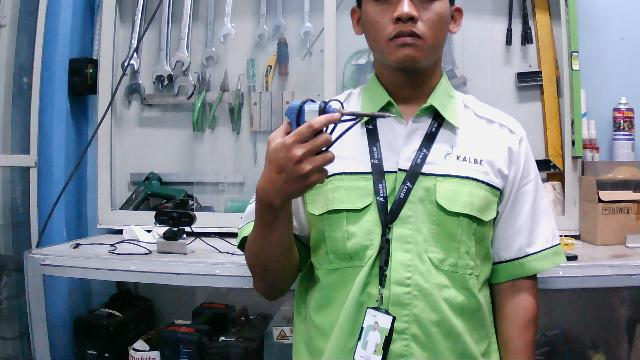solder_electrical: (284, 97, 397, 156)
